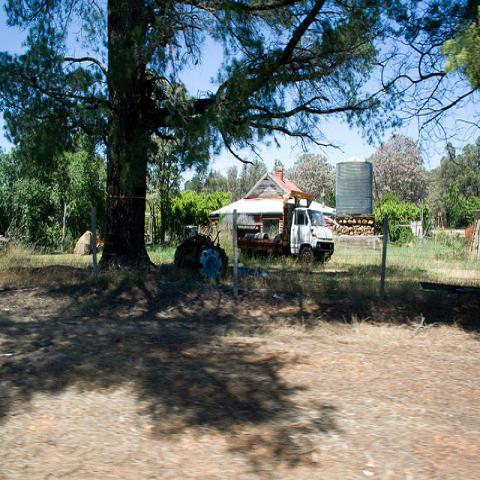truck: (235, 190, 336, 275)
